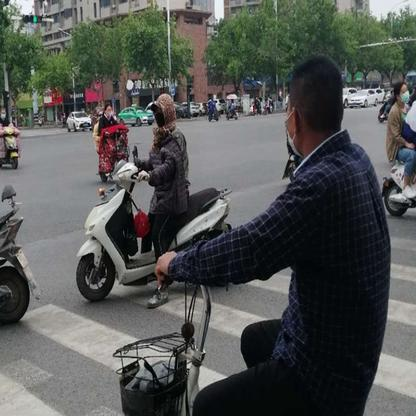target: (75, 92, 249, 303)
